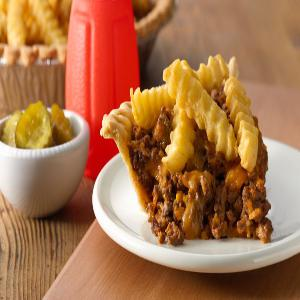fries_350cal: (99, 45, 264, 169)
